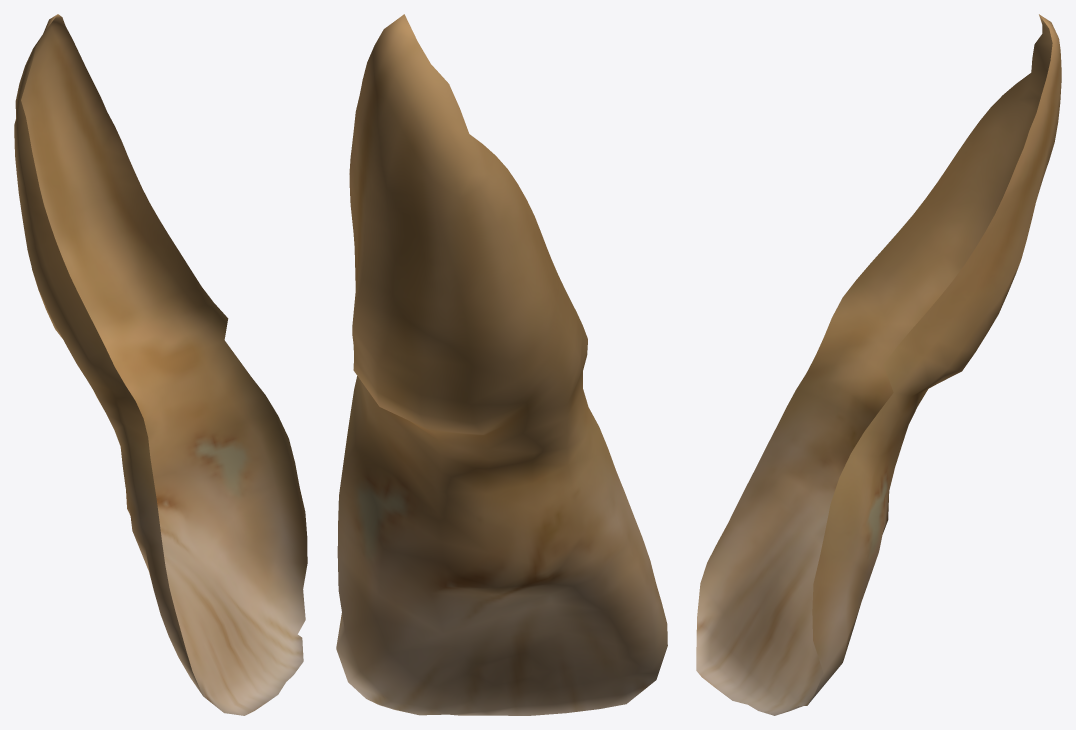
The model's file is tooth-22.glb.
The picture shows the model from 3 angles, left to right: view 1: azimuth 30°, elevation 25°; view 2: azimuth 150°, elevation 25°; view 3: azimuth 270°, elevation 25°; orthographic projection. The views are drawn at different scales.
Parts seen in each view (by area): view 1: teeth_1; view 2: teeth_1; view 3: teeth_1.
Part boxes in pixels (x1=…): teeth_1: x1=14, y1=14, x2=307, y2=715; teeth_1: x1=336, y1=14, x2=667, y2=715; teeth_1: x1=696, y1=14, x2=1061, y2=715.
Size of the model in its own units: 0.0222 by 0.0618 by 0.0317.
1 material, 1 textured.
